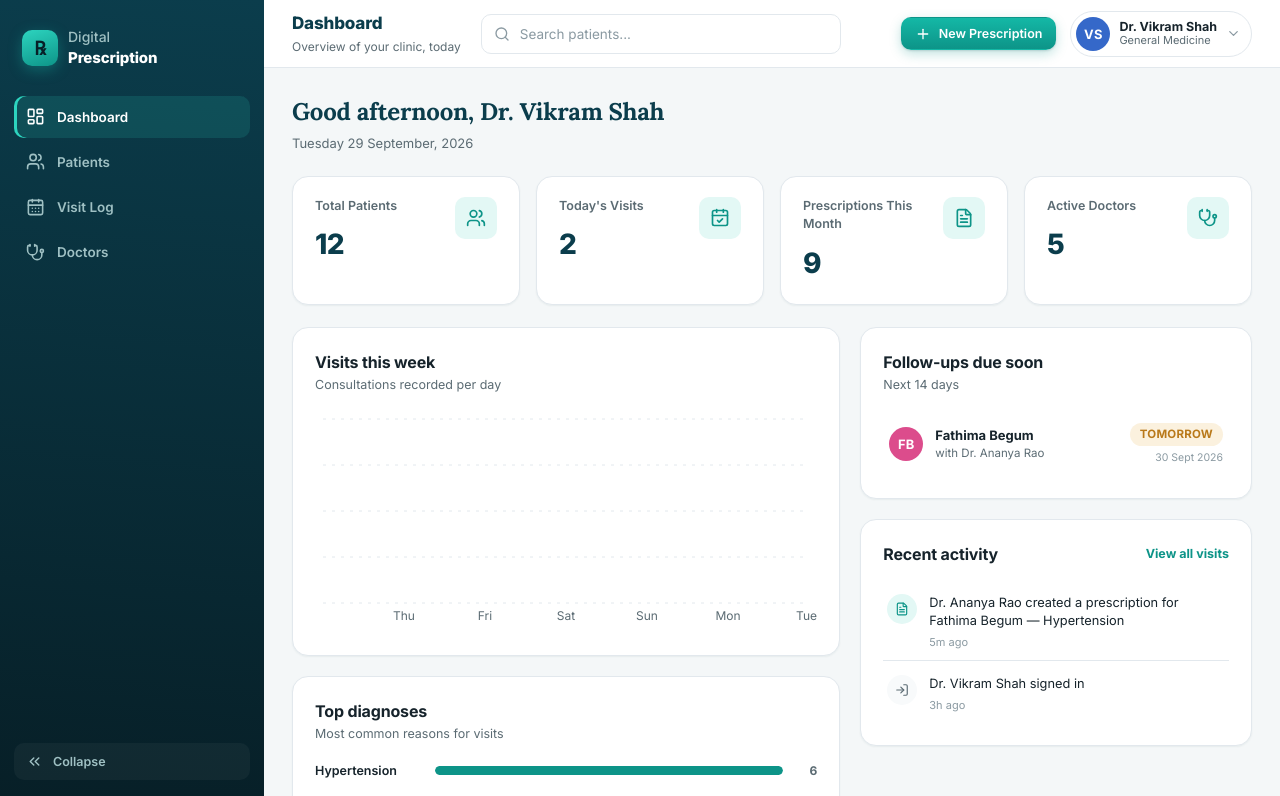
AppShell › signs out on the server and returns to the login page
Click the button with aria-label "Account menu" at (1161, 34), box [1070,10,1252,56]
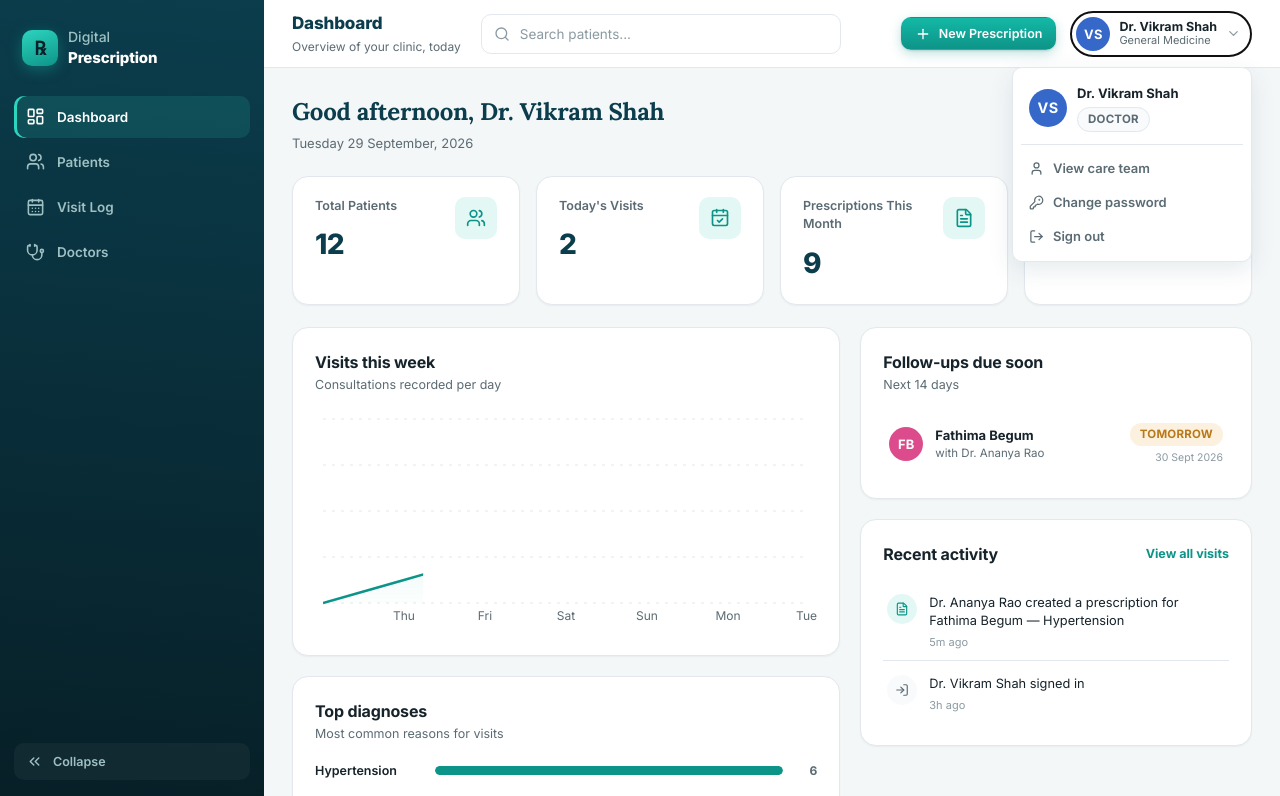
Click the menu item "Sign out" at (1132, 236), box [1021,219,1243,253]
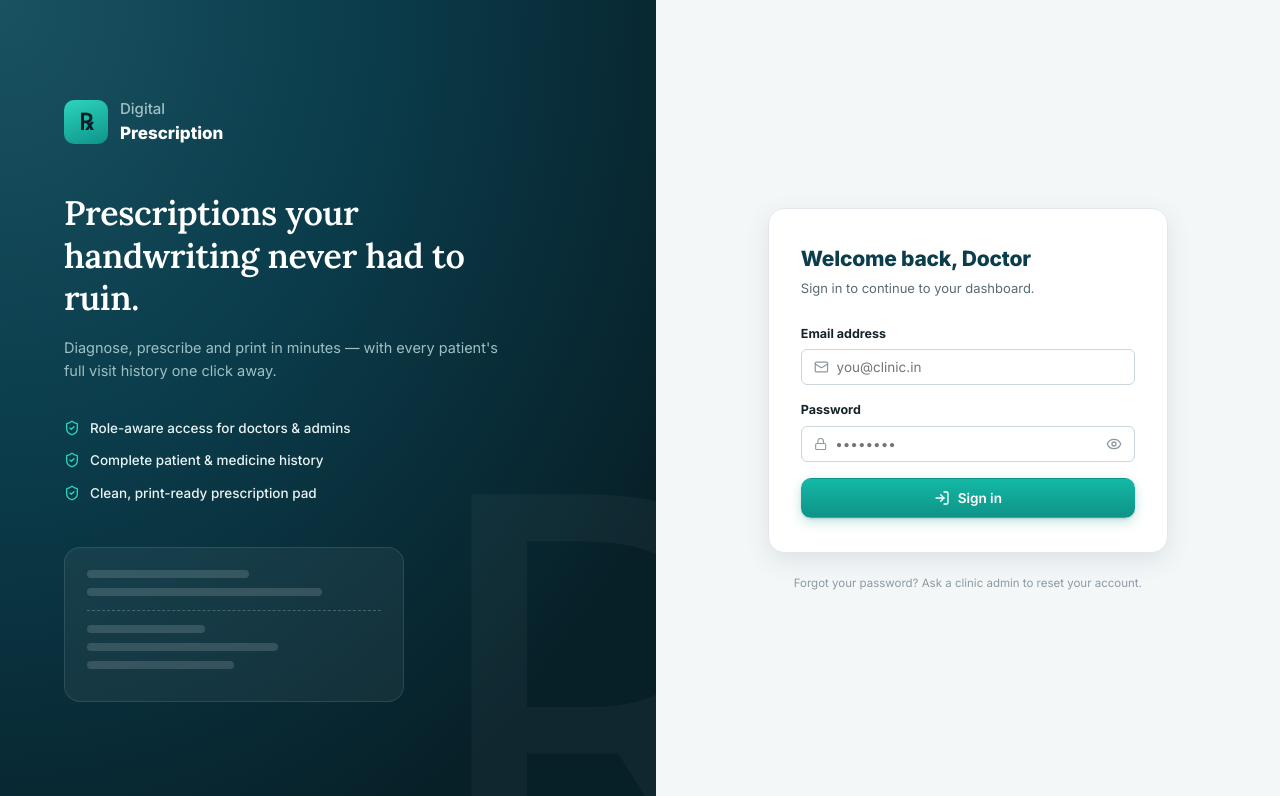
Now the heading "Welcome back, Doctor" is shown, box [801,246,1031,271]
